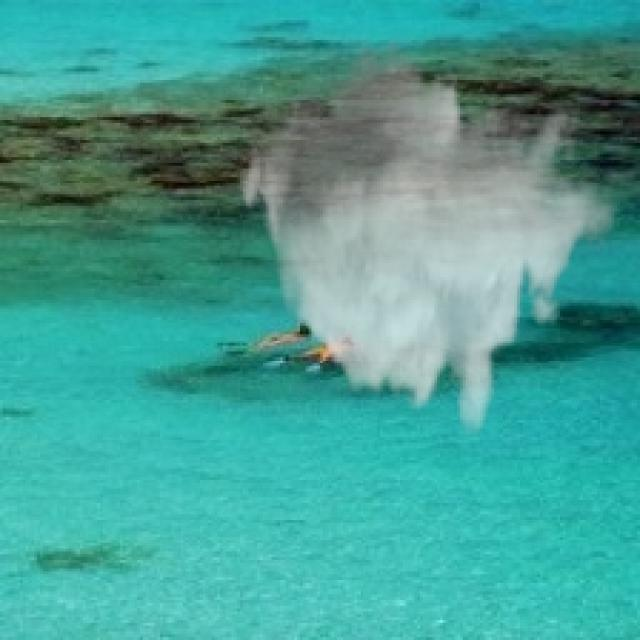Smoke: (234, 29, 617, 438)
